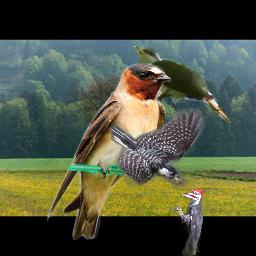Cuckoo: (132, 46, 233, 123)
Swallow: (47, 63, 171, 240)
Woodpecker: (111, 107, 207, 188), (171, 189, 205, 256)
